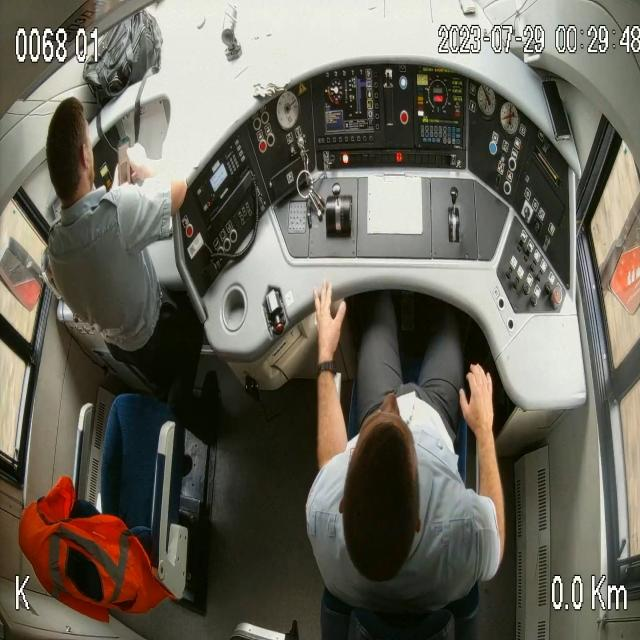smartphone: (115, 137, 143, 187)
